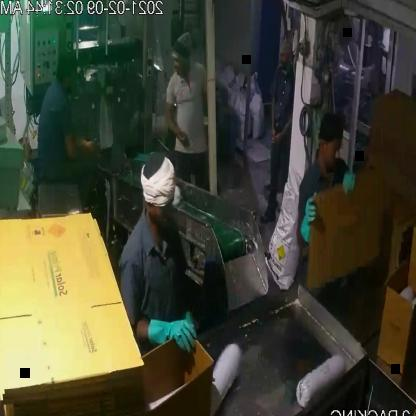glove: (136, 295, 207, 369), (292, 186, 326, 247), (335, 154, 364, 207)
no_glove: (56, 120, 100, 172), (160, 90, 191, 150), (262, 88, 288, 140), (275, 98, 300, 146)
